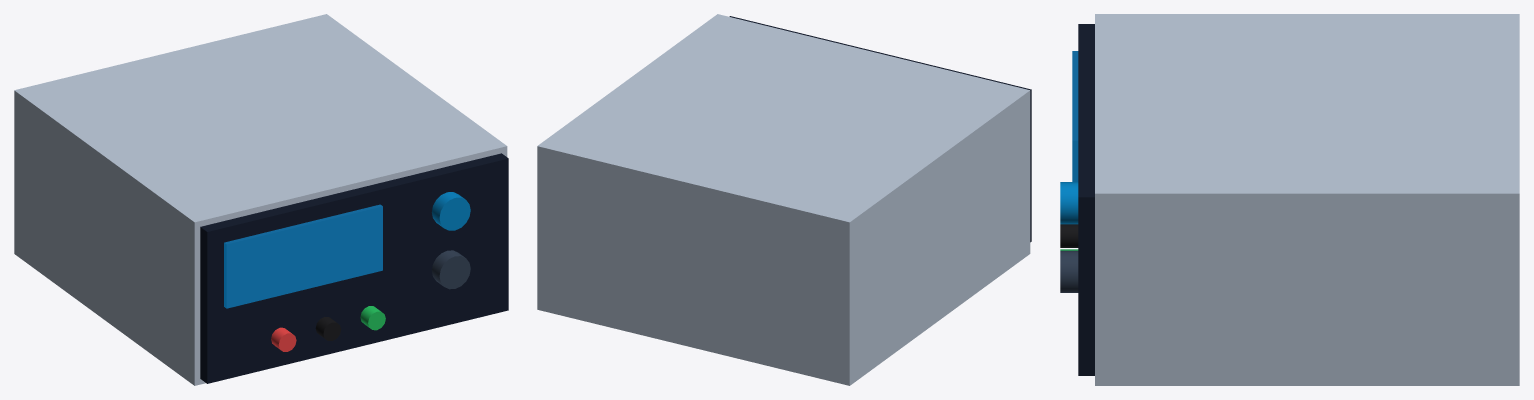
Rendered from dc_power_supply.glb.
3 views of the same model, side by side, from view 1: azimuth 30°, elevation 25°; view 2: azimuth 150°, elevation 25°; view 3: azimuth 270°, elevation 25° (orthographic). The views are drawn at different scales.
Visible parts, largest first — view 1: Agilent_DC_Power_Supply, DC_PSU_Digital_Display, Knob_Voltage_Adjust, Knob_Current_Limit, Post_Earth_Green, Post_Positive_Red, Post_Negative_Black; view 2: Agilent_DC_Power_Supply; view 3: Agilent_DC_Power_Supply, DC_PSU_Digital_Display, Knob_Voltage_Adjust, Knob_Current_Limit, Post_Negative_Black.
Part boxes in pixels (<box>): Agilent_DC_Power_Supply: <box>14,14,508,385</box>; DC_PSU_Digital_Display: <box>224,204,382,308</box>; Knob_Voltage_Adjust: <box>431,192,470,230</box>; Knob_Current_Limit: <box>432,250,470,289</box>; Post_Earth_Green: <box>360,306,385,330</box>; Post_Positive_Red: <box>271,327,296,351</box>; Post_Negative_Black: <box>315,317,341,340</box>; Agilent_DC_Power_Supply: <box>537,14,1031,385</box>; Agilent_DC_Power_Supply: <box>1078,14,1519,385</box>; DC_PSU_Digital_Display: <box>1072,51,1078,181</box>; Knob_Voltage_Adjust: <box>1060,182,1078,224</box>; Knob_Current_Limit: <box>1060,250,1078,292</box>; Post_Negative_Black: <box>1060,224,1078,247</box>.
Bounding box in the file's own units: 0.28 × 0.14 × 0.303.
